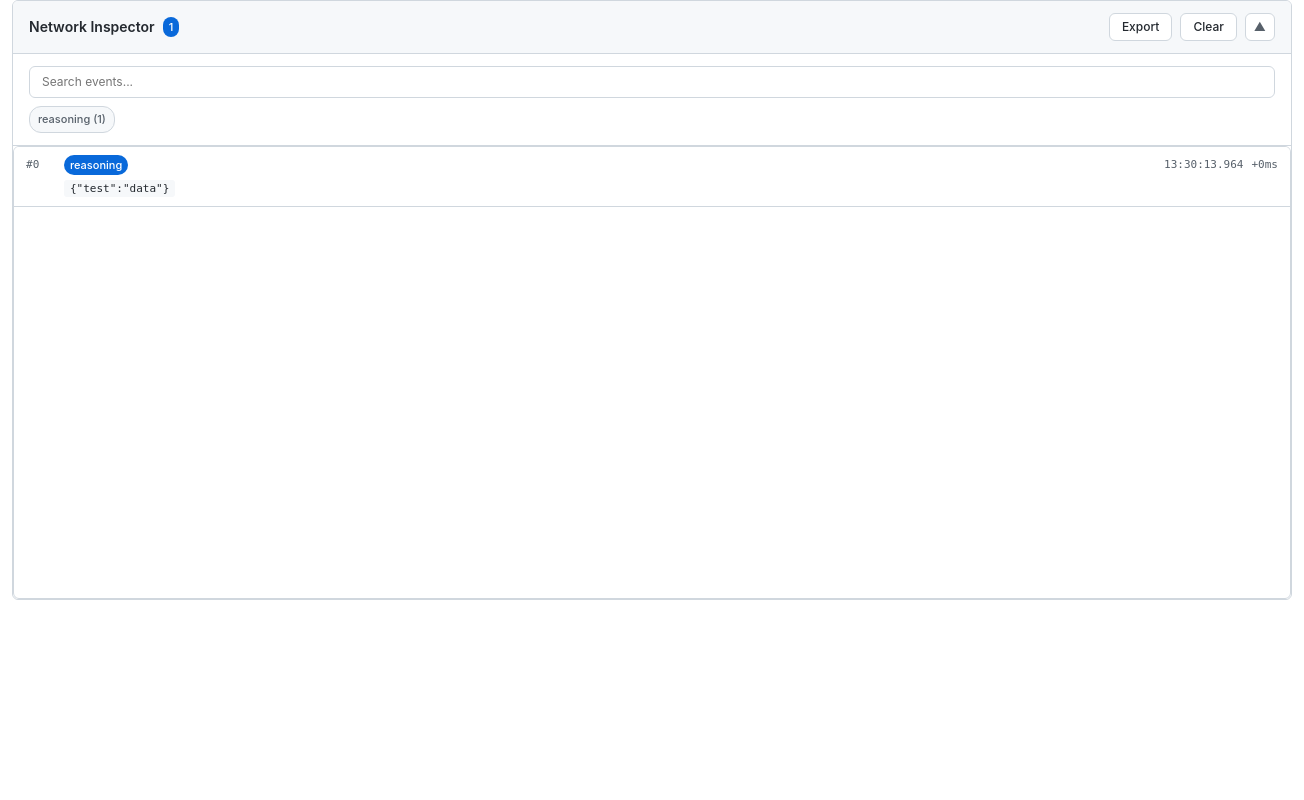
NetworkInspector › event selection and details › should close details panel when close button clicked
Click the button "#0 reasoning 13:30:13.964 +0ms {\"test\":\"data\"}". click: point(96, 165)
box: left=14, top=146, right=1290, bottom=206
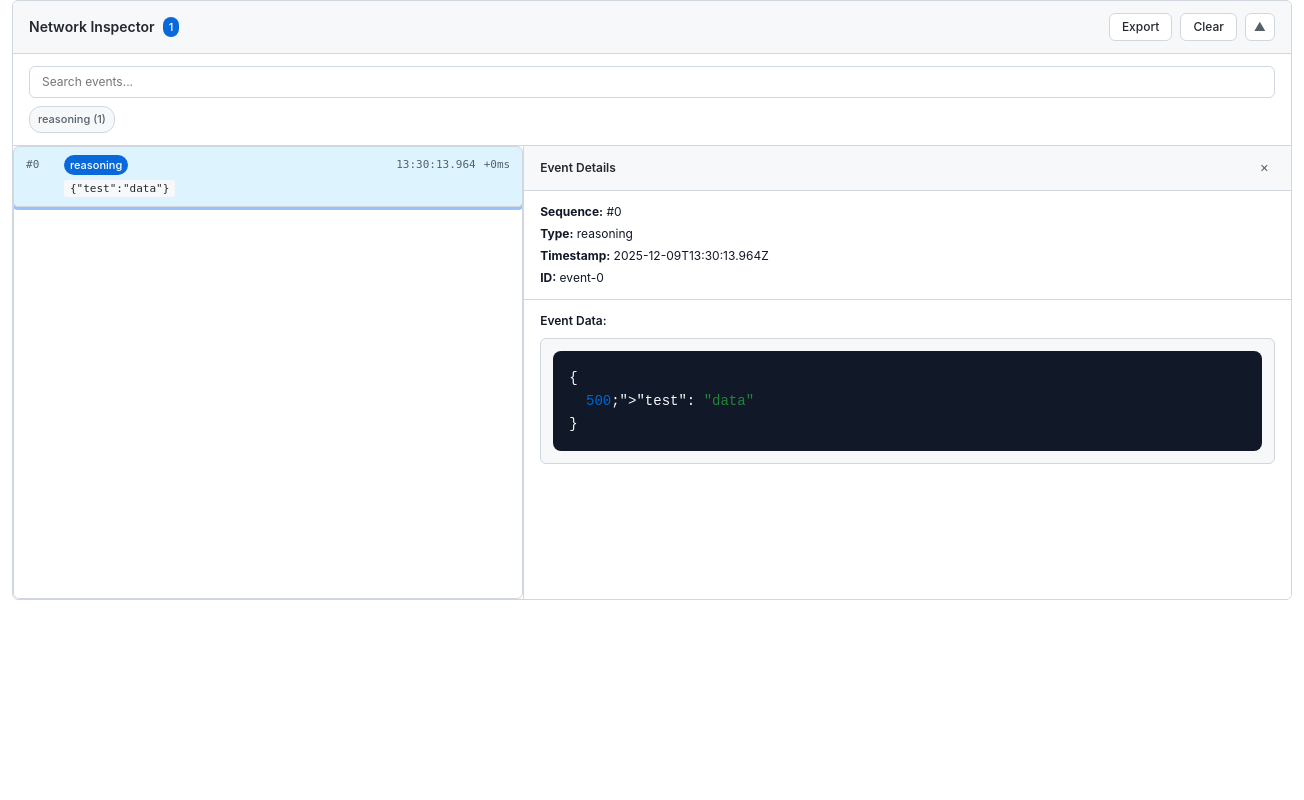
# Close details
Click the button named "Close details". click: point(1264, 168)
box: left=1254, top=158, right=1275, bottom=178
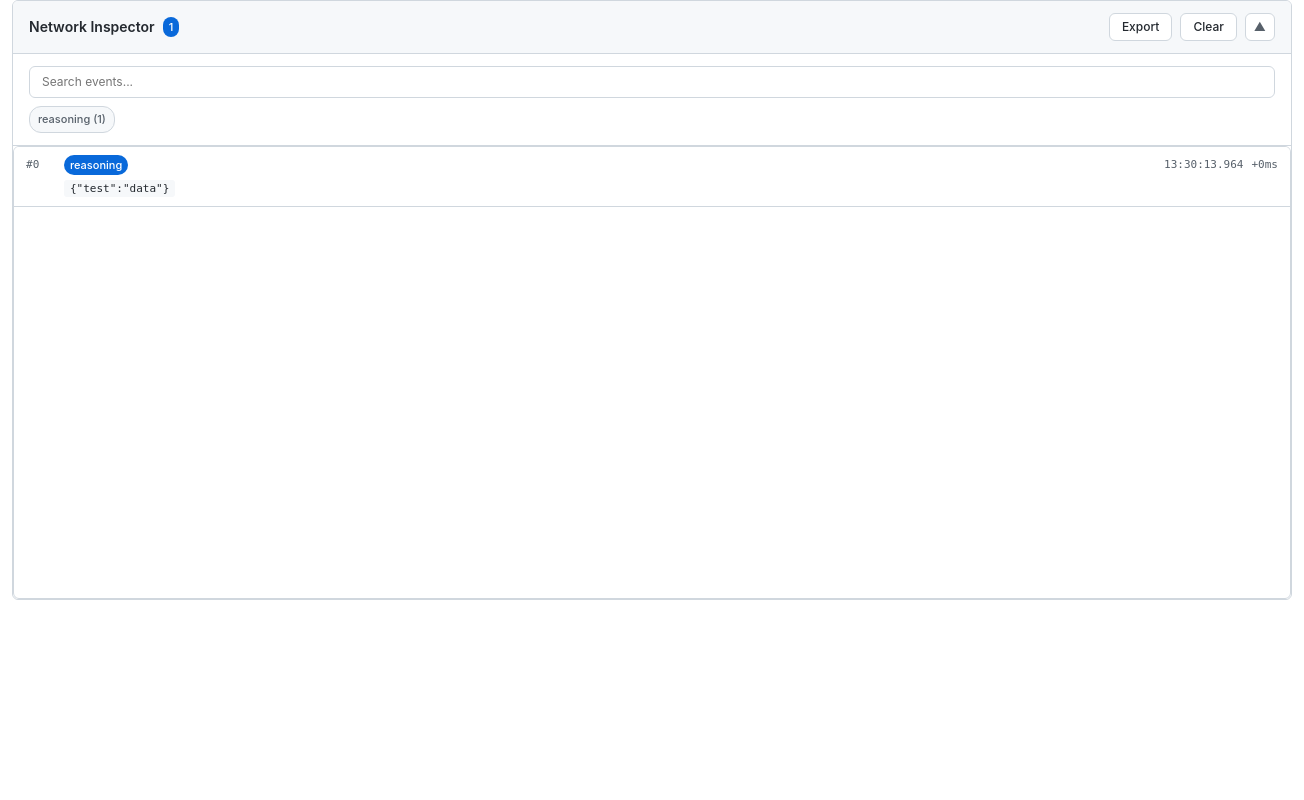
Expected: the text "Event Details" is gone
